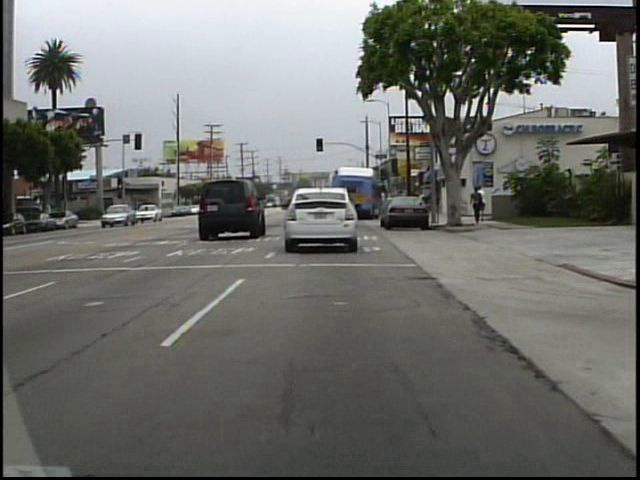person: (470, 183, 487, 225), (477, 182, 489, 222)
